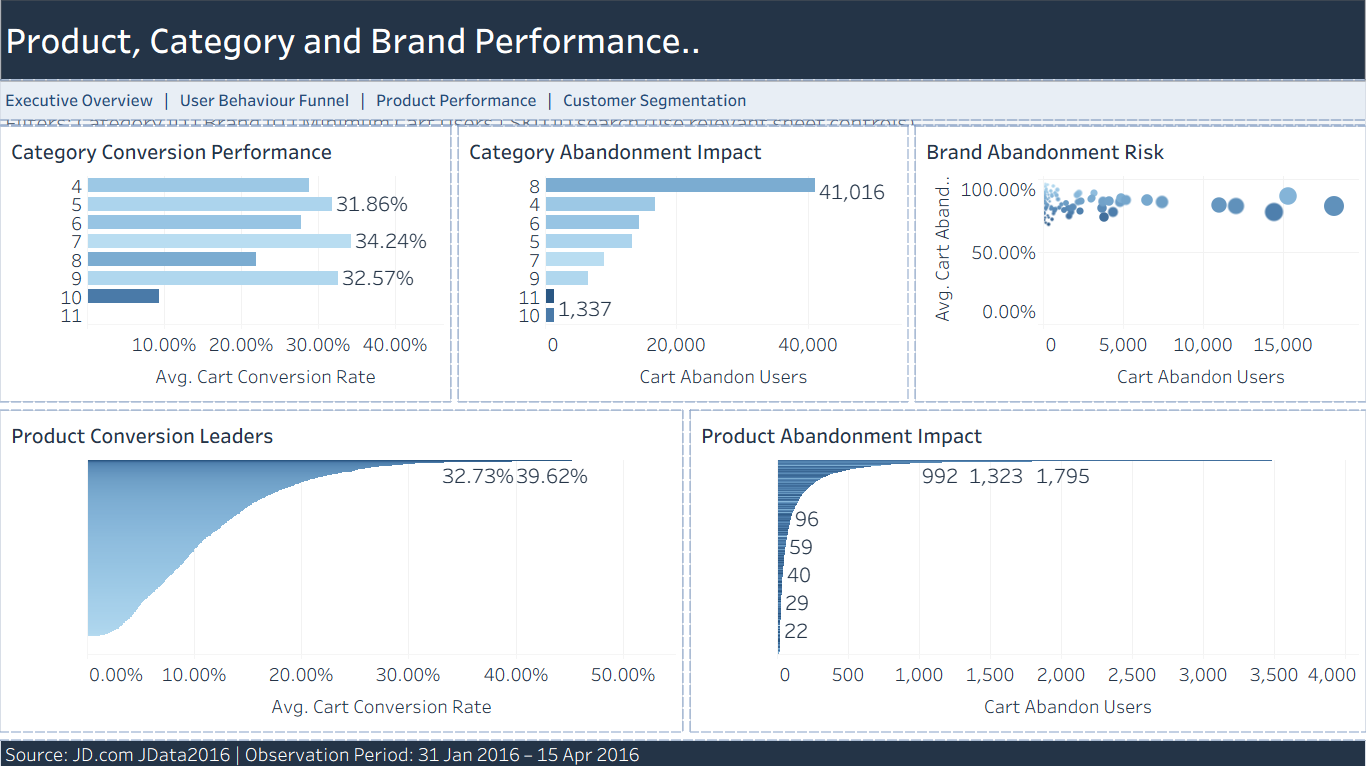

The dashboard page shown, as its layout file describes it:
{"tool":"tableau","page":{"name":"Product Performance","canvas":[1366,768],"ordinal":2},"visuals":[{"type":"text","box":[0,0,1366,80.6]},{"type":"text","box":[0,80.6,1366,39.9]},{"type":"text","box":[0,120.6,1366,5.4]},{"type":"worksheet","title":"Category Conversion Performance","mark":"Bar","rows":["category_id"],"cols":["cart_to_purchase_rate"],"box":[0,126.7,450.8,276.5]},{"type":"worksheet","title":"Category Abandonment Impact","mark":"Bar","rows":["category_id"],"cols":["cart_abandon_users"],"box":[457.6,126.7,450.8,276.5]},{"type":"worksheet","title":"Brand Abandonment Risk","mark":"Circle","rows":["cart_abandonment_rate"],"cols":["cart_abandon_users"],"box":[915.2,126.7,450.8,276.5]},{"type":"worksheet","title":"Product Conversion Leaders","mark":"Bar","rows":["sku_id"],"cols":["cart_to_purchase_rate"],"box":[0,410.9,683,322.6]},{"type":"worksheet","title":"Product Abandonment Impact","mark":"Bar","rows":["sku_id"],"cols":["cart_abandon_users"],"box":[689.8,410.9,676.2,322.6]},{"type":"text","box":[0,741.1,1366,26.9]}]}

Visuals, with their boxes in screenshot pixels (x1, y1, x2, y2), scaled from the page's 1366x768 canvas onto the 1366x766 screenshot:
text: (0,0,1365,80)
text: (0,80,1365,120)
text: (0,120,1365,126)
"Category Conversion Performance" worksheet (Bar marks): (0,126,451,402)
"Category Abandonment Impact" worksheet (Bar marks): (458,126,908,402)
"Brand Abandonment Risk" worksheet (Circle marks): (915,126,1365,402)
"Product Conversion Leaders" worksheet (Bar marks): (0,410,683,732)
"Product Abandonment Impact" worksheet (Bar marks): (690,410,1365,732)
text: (0,739,1365,765)
